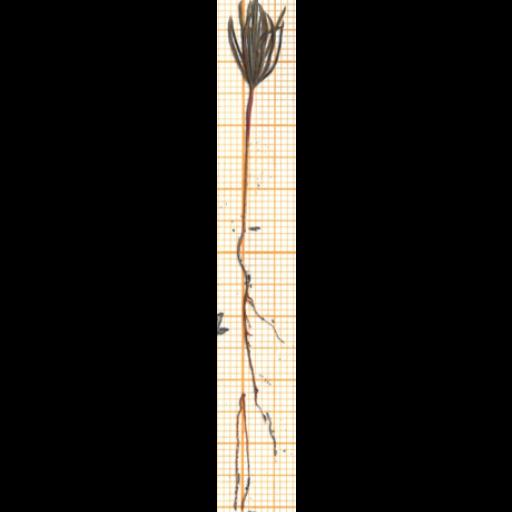flowerPinus: (227, 0, 284, 89)
rootPinus: (235, 235, 282, 405), (235, 395, 250, 511), (235, 397, 249, 497), (262, 413, 276, 455)
stemPinus: (241, 87, 252, 228)
